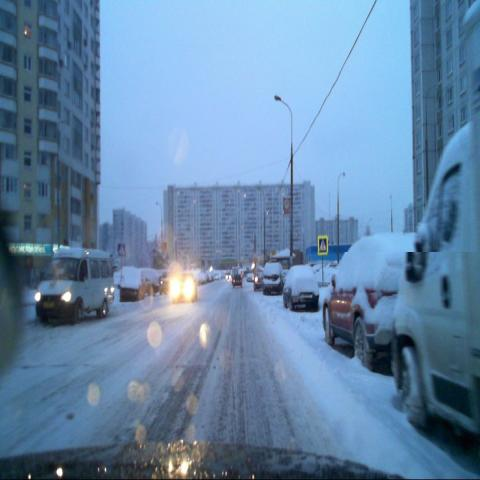5_19_1: (317, 234, 329, 254), (117, 240, 127, 257)
